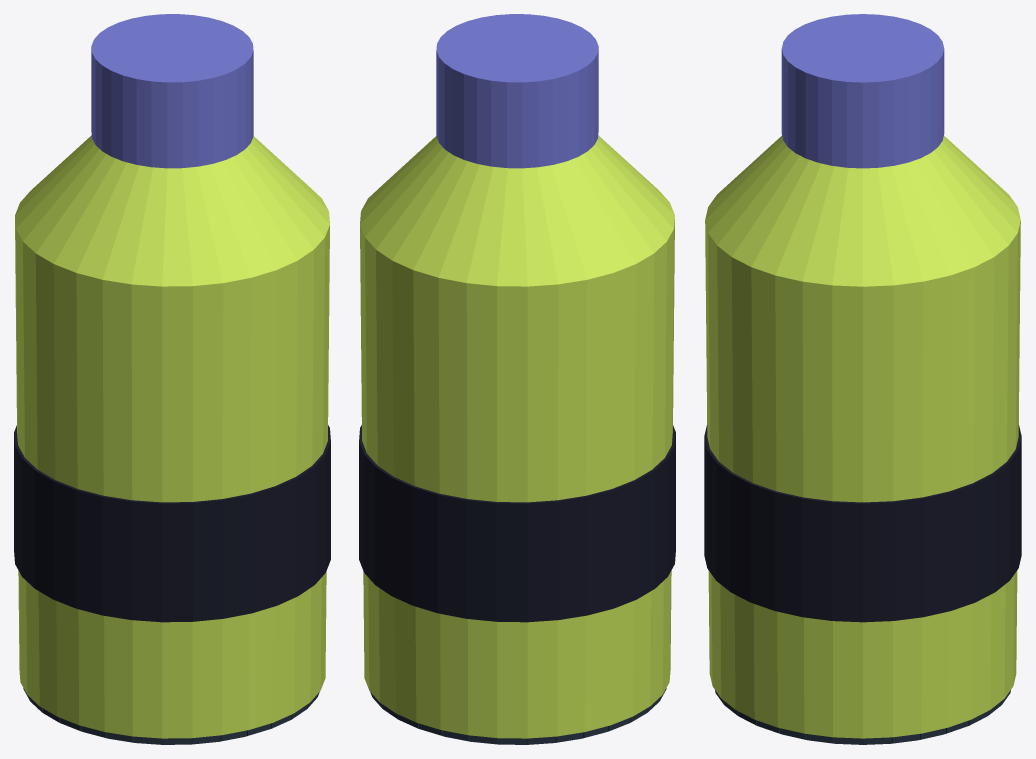
The model's file is bottle.glb.
3 views of the same model, side by side, from view 1: azimuth 30°, elevation 25°; view 2: azimuth 150°, elevation 25°; view 3: azimuth 270°, elevation 25° (orthographic).
Visible parts, largest first — view 1: bottle body, grip band, shoulder, bottle cap; view 2: bottle body, grip band, shoulder, bottle cap; view 3: bottle body, grip band, shoulder, bottle cap.
Part boxes in pixels (bbox=[...]): bottle body: bbox=[15, 219, 329, 738]; grip band: bbox=[14, 425, 330, 622]; shoulder: bbox=[15, 135, 329, 286]; bottle cap: bbox=[91, 14, 253, 168]; bottle body: bbox=[360, 219, 674, 738]; grip band: bbox=[359, 425, 675, 622]; shoulder: bbox=[360, 135, 674, 286]; bottle cap: bbox=[436, 14, 598, 168]; bottle body: bbox=[705, 220, 1020, 738]; grip band: bbox=[704, 425, 1021, 622]; shoulder: bbox=[705, 136, 1020, 286]; bottle cap: bbox=[781, 14, 944, 168].
Size of the model in its own units: 0.704 by 1.55 by 0.704.
